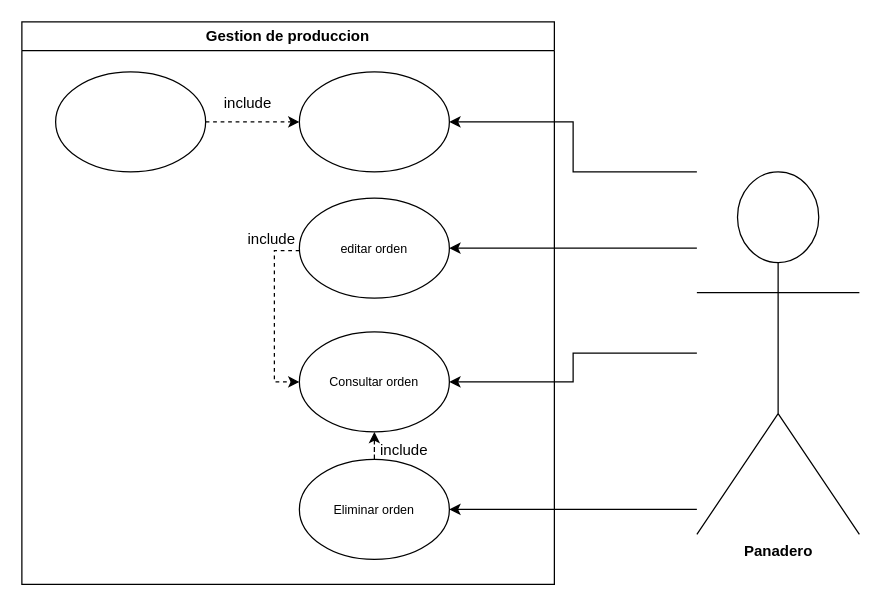
This 881x606 diagram has some shape labels left out. Each missing label, with the centre of its shape:
Generar orden: (x=373, y=121)
validar orden: (x=130, y=121)
